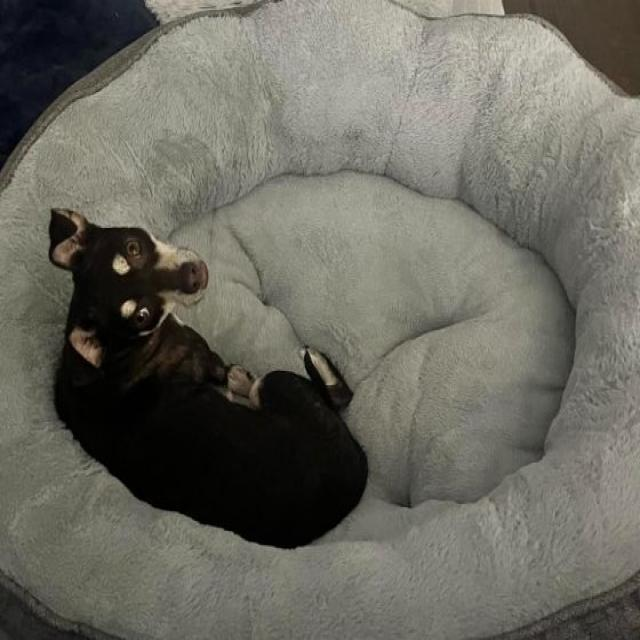chihuahua_dog: (39, 196, 220, 397)
